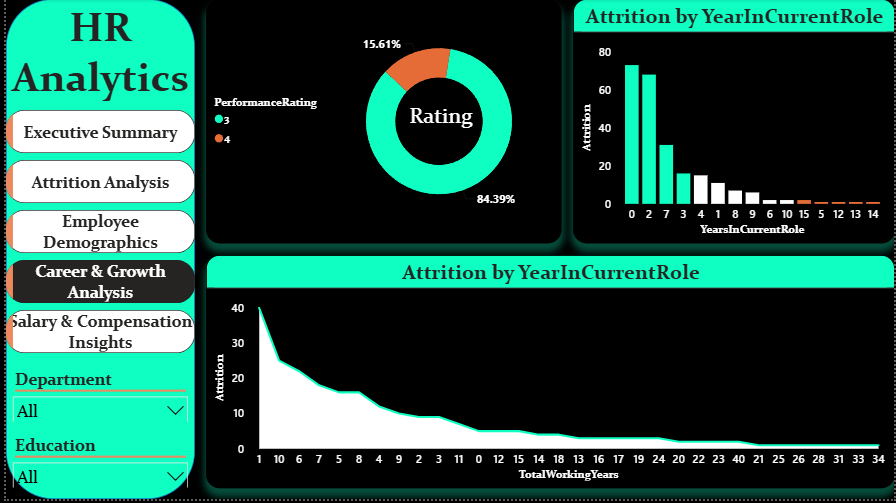

Layout of this report page (visuals, bound fields, positions):
{"tool":"powerbi","page":{"name":"Career & Growth Analysis","canvas":[1280,720],"ordinal":3},"visuals":[{"type":"group","id":"g1","title":"Group 1","box":[0,0,272,720],"z":0},{"type":"shape","box":[0,0,272,720],"z":0,"group":"g1"},{"type":"textbox","box":[0,0,272,160],"z":1000,"group":"g1"},{"type":"columnChart","title":"Attrition by YearInCurrentRole","fields":{"Category":["HR-Employee-Attrition (1).YearsInCurrentRole"],"Y":["HR-Employee-Attrition (1).Attrition count"]},"box":[816,0,464,352],"z":1000},{"type":"donutChart","title":"Attrition by Gender","fields":{"Category":["HR-Employee-Attrition (1).PerformanceRating"],"Y":["HR-Employee-Attrition (1).Attrition count"]},"box":[288,0,512,352],"z":2000},{"type":"pageNavigator","box":[0,160,272,352],"z":2000,"group":"g1"},{"type":"stackedAreaChart","title":"Attrition by YearInCurrentRole","fields":{"Category":["HR-Employee-Attrition (1).TotalWorkingYears"],"Y":["HR-Employee-Attrition (1).Attrition count"]},"box":[288,368,992,336],"z":3000},{"type":"slicer","fields":{"Values":["HR-Employee-Attrition (1).Department"]},"box":[0,528,272,80],"z":3000,"group":"g1"},{"type":"textbox","box":[576,144,112,64],"z":4000},{"type":"slicer","fields":{"Values":["HR-Employee-Attrition (1).Education"]},"box":[0,624,272,80],"z":4000,"group":"g1"}]}

Visuals, with their boxes in screenshot pixels (x1, y1, x2, y2), scaled from the page's 1280x720 canvas onto the 896x503 screenshot:
"Group 1" group: Rect(0, 0, 190, 502)
shape: Rect(0, 0, 190, 502)
textbox: Rect(0, 0, 190, 112)
"Attrition by YearInCurrentRole" columnChart: Rect(571, 0, 895, 246)
"Attrition by Gender" donutChart: Rect(202, 0, 560, 246)
pageNavigator: Rect(0, 112, 190, 358)
"Attrition by YearInCurrentRole" stackedAreaChart: Rect(202, 257, 895, 492)
slicer - HR-Employee-Attrition (1).Department: Rect(0, 369, 190, 425)
textbox: Rect(403, 101, 482, 145)
slicer - HR-Employee-Attrition (1).Education: Rect(0, 436, 190, 492)
